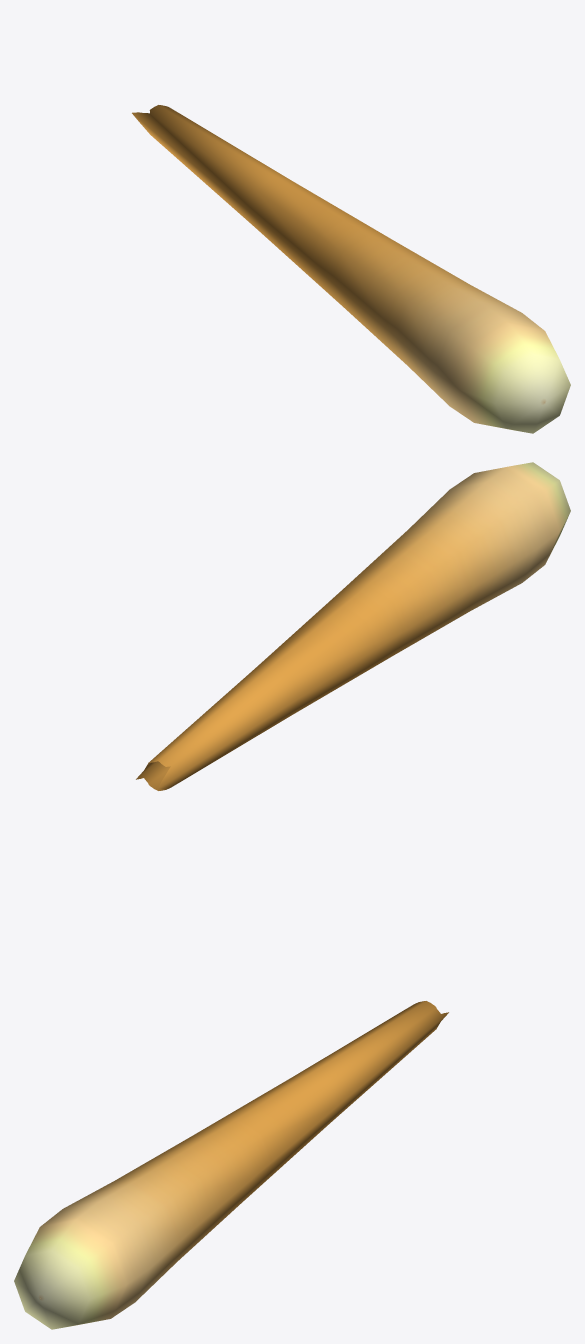
File: projectile_battlefortress_shell.fbx
3 renders of one model, top to bottom at view 1: azimuth 30°, elevation 25°; view 2: azimuth 150°, elevation 25°; view 3: azimuth 330°, elevation 25°, orthographic.
Parts seen in each view (by area): view 1: pCylinder1; view 2: pCylinder1; view 3: pCylinder1.
Boxes of the visible parts, x1=… form: pCylinder1: x1=132, y1=105, x2=570, y2=433; pCylinder1: x1=136, y1=462, x2=570, y2=790; pCylinder1: x1=14, y1=1001, x2=448, y2=1329.
Bounding box in the file's own units: 1.14 × 1.14 × 10.24.
Materials: 1 (1 with a texture image).
